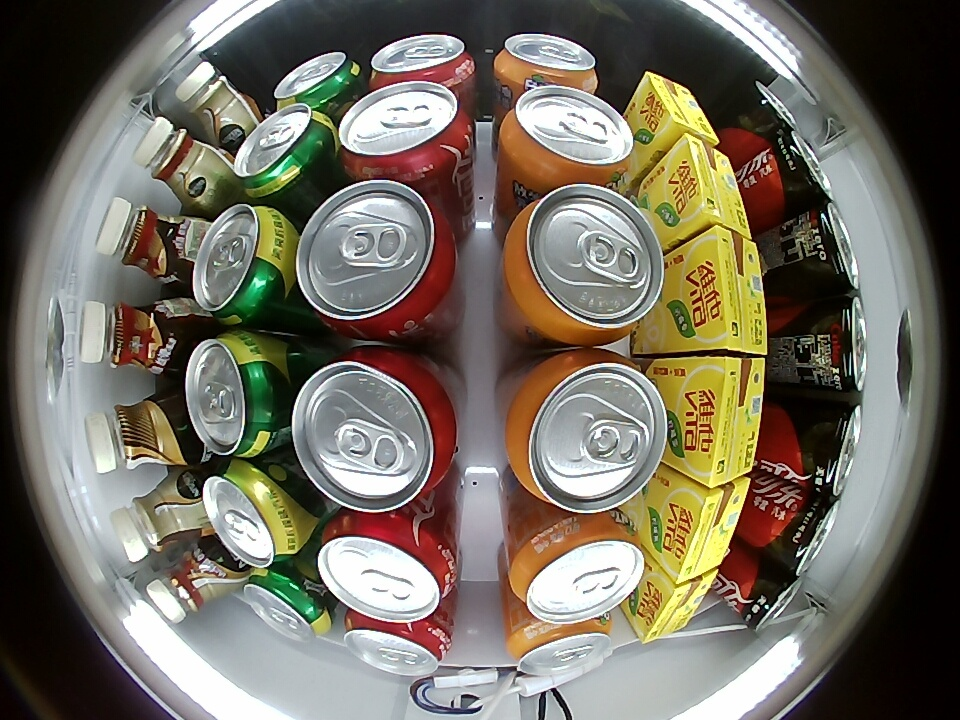fenda: (505, 349, 668, 512), (502, 183, 664, 346), (510, 512, 645, 624), (499, 85, 633, 186), (505, 614, 612, 676), (493, 34, 598, 93)
kafei: (95, 196, 199, 289), (133, 117, 229, 209), (84, 392, 191, 474), (110, 473, 204, 563), (77, 300, 188, 376), (176, 62, 259, 147), (146, 545, 236, 622)
kele: (291, 345, 458, 513), (296, 180, 457, 339), (316, 513, 456, 623), (337, 80, 470, 181), (343, 614, 452, 677), (369, 34, 475, 89)
lingdukele: (791, 398, 863, 496), (799, 294, 868, 394), (788, 203, 860, 297), (769, 487, 841, 575), (766, 130, 834, 213), (734, 558, 802, 634), (742, 80, 797, 143)
weitaningmeng: (676, 357, 766, 487), (680, 224, 768, 356), (661, 477, 751, 585), (667, 134, 751, 237), (635, 71, 719, 146), (632, 570, 717, 643)
xuebi2: (192, 203, 295, 324), (184, 332, 282, 457), (202, 461, 303, 568), (232, 103, 336, 203), (243, 567, 332, 641), (274, 50, 364, 110)
